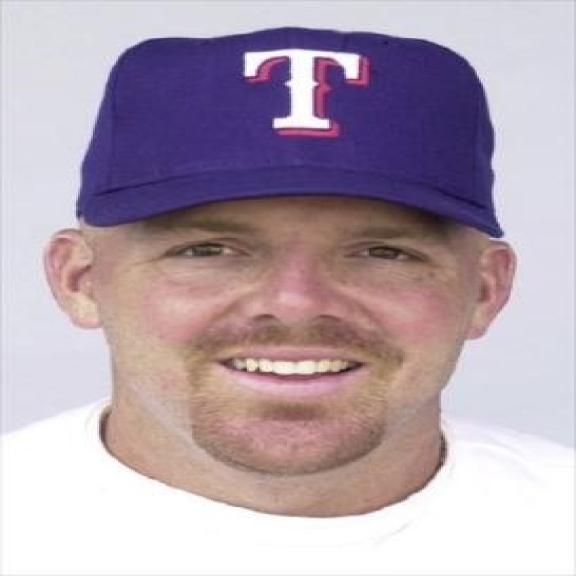face: (47, 58, 520, 478)
